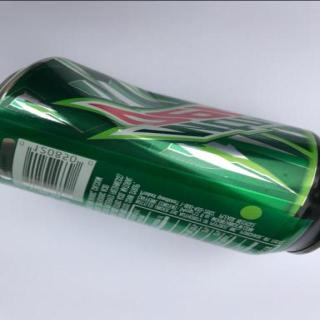Anorganik: (0, 52, 320, 260)
